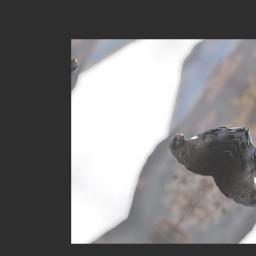Crow: (160, 93, 249, 185)
